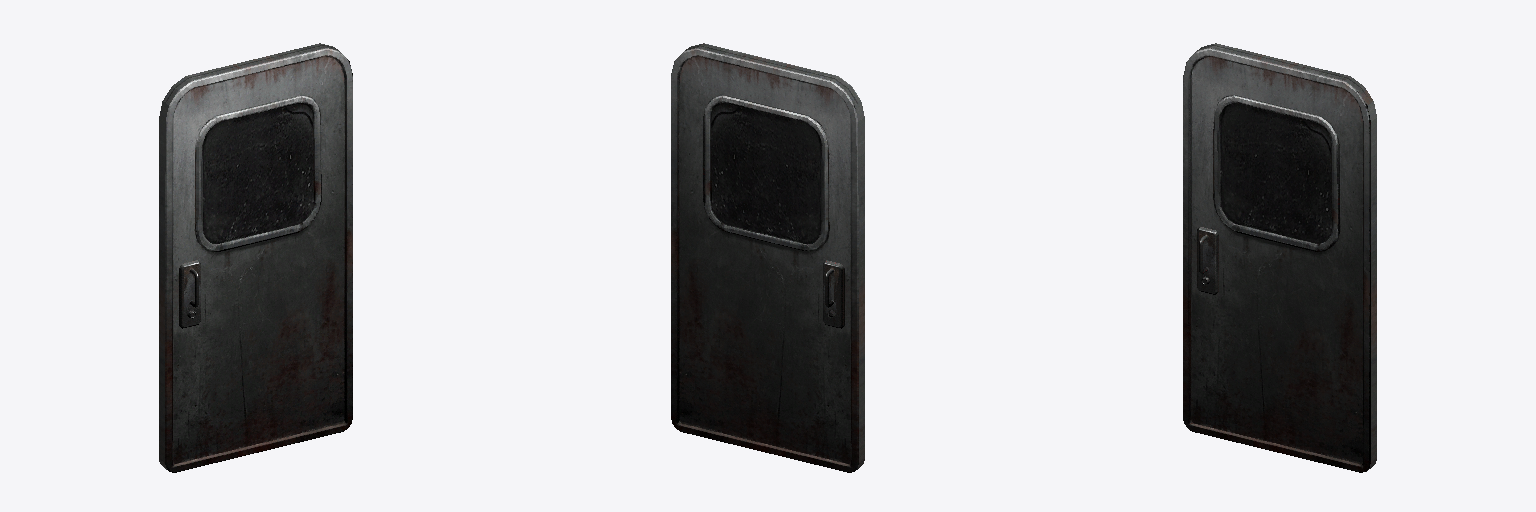
3 renders of one model, left to right at view 1: azimuth 30°, elevation 25°; view 2: azimuth 150°, elevation 25°; view 3: azimuth 330°, elevation 25°, orthographic.
Parts seen in each view (by area): view 1: model_d0a; view 2: model_d0a; view 3: model_d0a.
Boxes of the visible parts, <box> form: model_d0a: <box>159,43,352,472</box>; model_d0a: <box>671,43,864,472</box>; model_d0a: <box>1183,43,1376,472</box>.
Size of the model in its own units: 0.338 by 0.6666 by 0.0664.
1 materials, 1 textured.